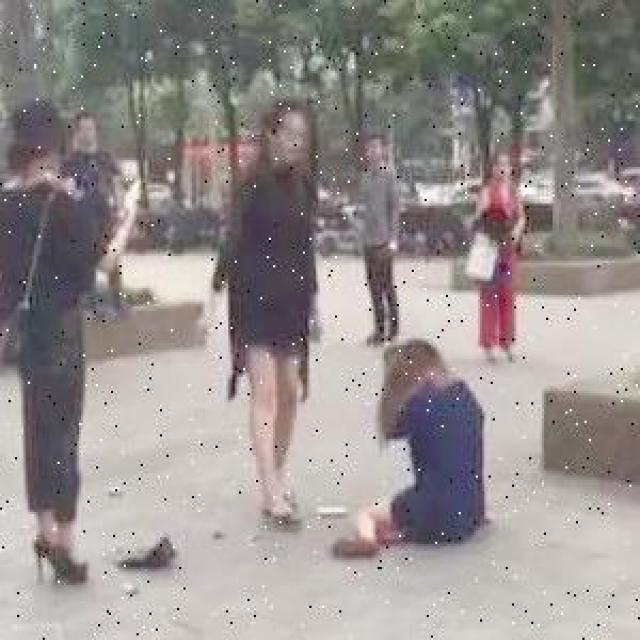fall: (337, 338, 495, 556)
